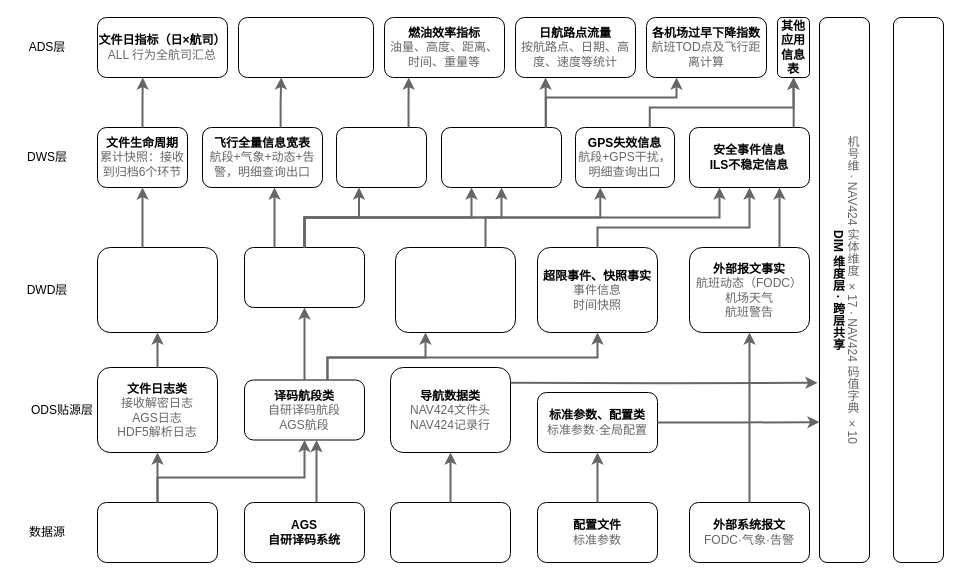
Some shapes in this 961 by 580 pixel diagram are drawn without their labels. The shapes that lost their labels are listed below. From the top down, each one's centre as x and y in pixels, then its label:
At point (306, 47): "机号日指标（日×机号） 支撑按机号下钻".
At point (381, 157): "航班燃油信息 航段+燃油，明细查询出口".
At point (501, 157): "空域、机场流量信息 航段+航路点，明细查询出口".
At point (157, 289): "文件流水事实 接收解密日志 打包分流 译码日志".
At point (304, 277): "航班事实 航段信息 航段ID映射".
At point (455, 289): "QAR工程值事实 标准参数工程值".
At point (918, 289): "ETL 控制 · 跨层支撑 增量位点 · NAV424 导入日志 · 日志监控位点".
At point (157, 532): "接收与打包系统 WGCM·WFDI·打包".
At point (450, 532): "导航数据文件 ARINC424".
